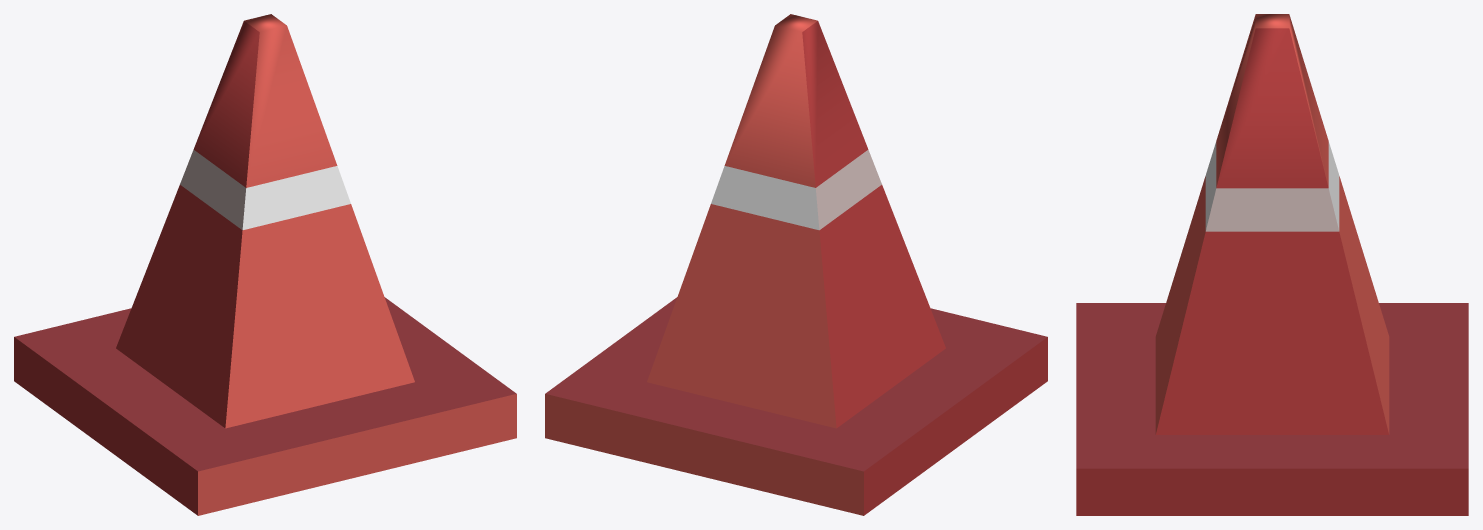
File: colorCorn.fbx
The picture shows the model from 3 angles, left to right: view 1: azimuth 30°, elevation 25°; view 2: azimuth 150°, elevation 25°; view 3: azimuth 270°, elevation 25°; orthographic projection. The views are drawn at different scales.
Parts seen in each view (by area): view 1: corn, colorCorn_mesh; view 2: corn, colorCorn_mesh; view 3: corn, colorCorn_mesh.
Boxes of the visible parts, bbox=[...] form: corn: bbox=[116, 14, 414, 428]; colorCorn_mesh: bbox=[14, 297, 516, 515]; corn: bbox=[647, 14, 945, 428]; colorCorn_mesh: bbox=[545, 297, 1047, 515]; corn: bbox=[1155, 14, 1389, 434]; colorCorn_mesh: bbox=[1076, 303, 1468, 515].
Size of the model in its own units: 46.82 by 54.29 by 46.82.
Materials: 1 (1 with a texture image).
